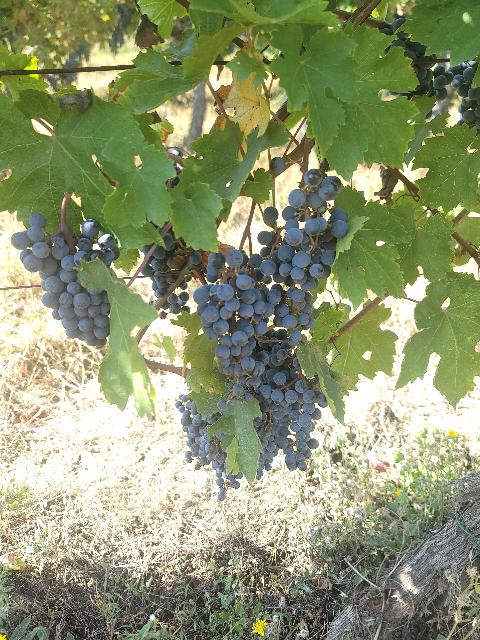grapes: (11, 214, 120, 349), (194, 249, 274, 376), (278, 169, 349, 280), (175, 394, 240, 501), (271, 379, 320, 471), (254, 398, 284, 479)
